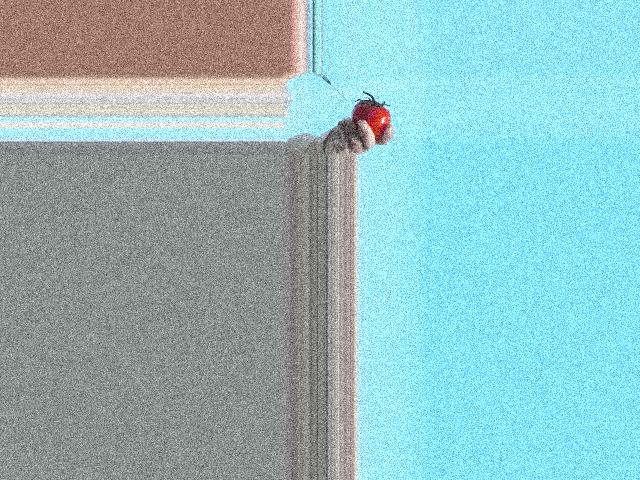tomato: (352, 100, 391, 139)
